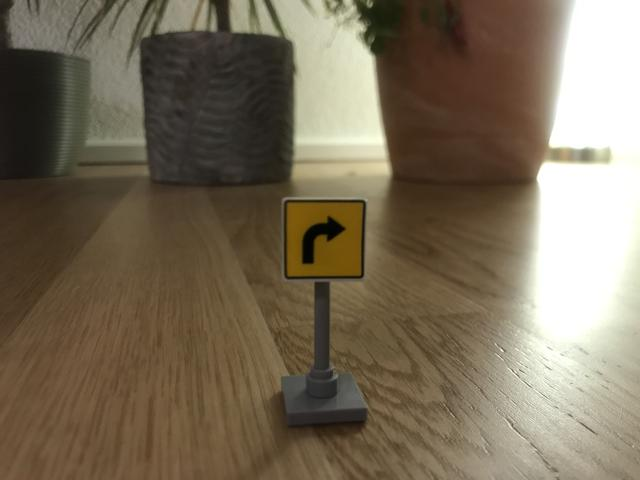fahrtrichtung rechts: (283, 196, 369, 282)
